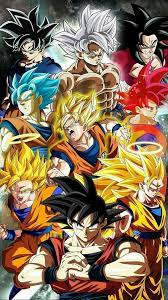Songoku: (62, 192, 111, 241), (56, 97, 95, 145), (12, 75, 52, 118), (74, 23, 112, 67), (7, 163, 43, 205), (130, 157, 165, 200), (131, 75, 163, 122), (129, 16, 163, 60), (15, 26, 47, 60)
